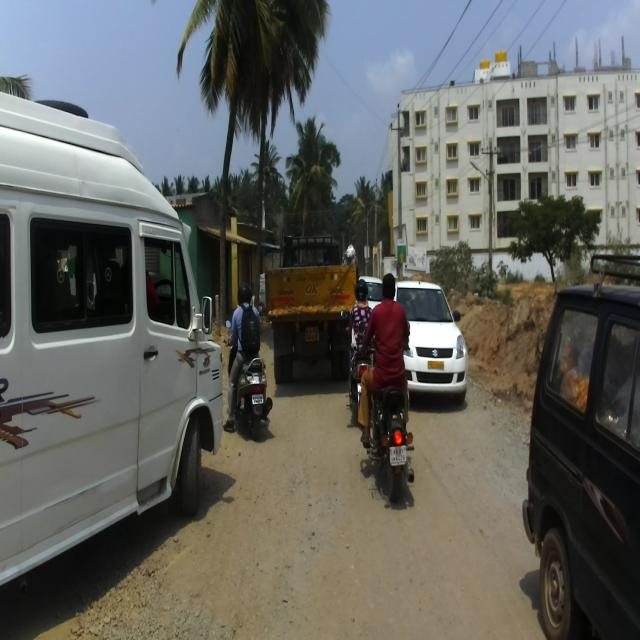bus ahead at: (4, 111, 228, 565)
car ahead at: (523, 253, 640, 640)
motorcycle ahead at: (365, 379, 422, 506), (227, 358, 274, 432)
truck ahead at: (264, 230, 357, 365)
